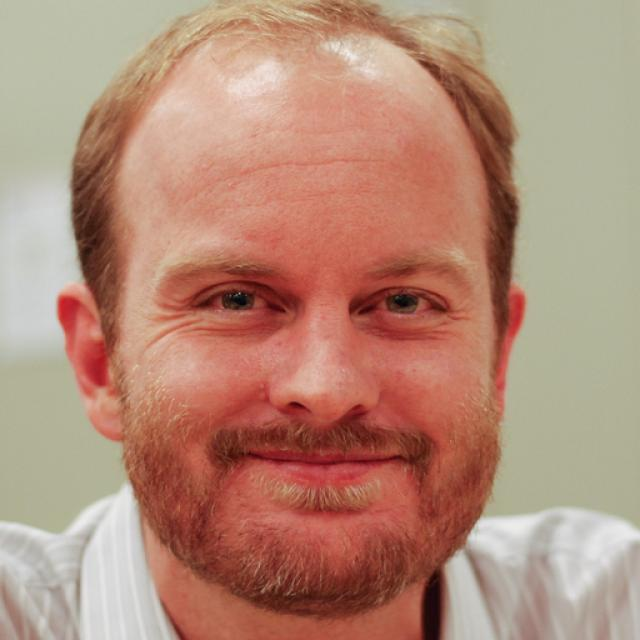Acne: (243, 378, 273, 402)
Wrinkle: (209, 149, 413, 195)
